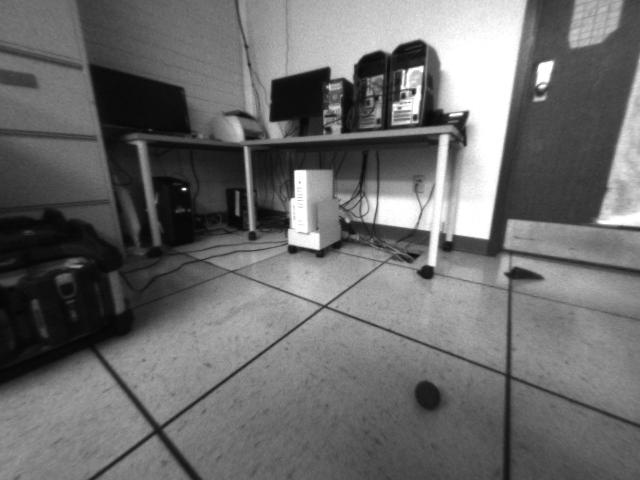dogtoy: (409, 376, 450, 417)
